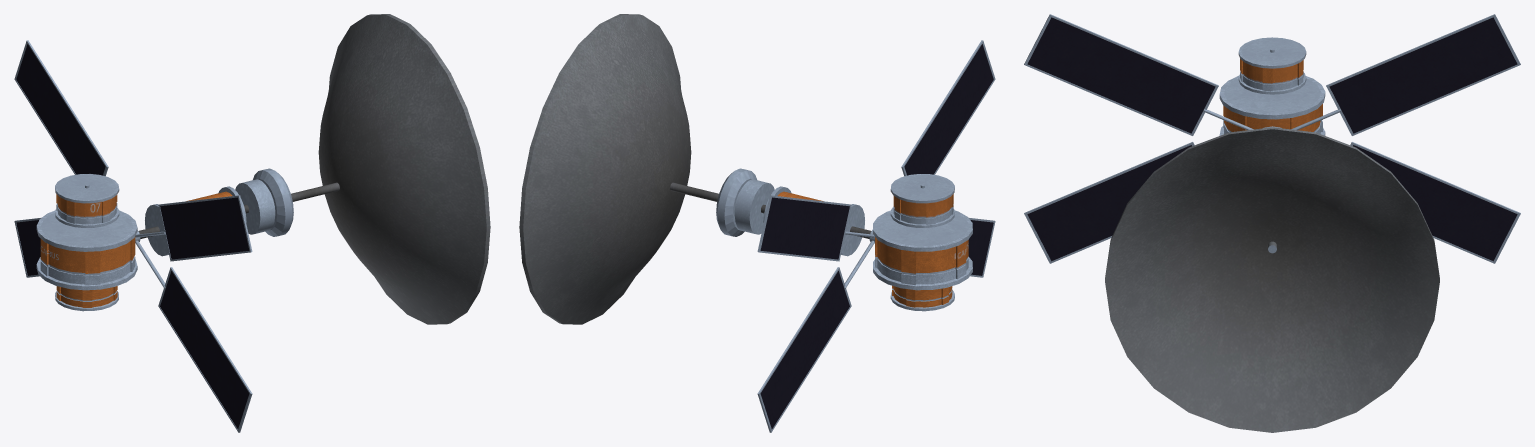
File: Satellite2.fbx
3 renders of one model, left to right at view 1: azimuth 30°, elevation 25°; view 2: azimuth 150°, elevation 25°; view 3: azimuth 270°, elevation 25°, orthographic. The views are drawn at different scales.
Visible parts, largest first — view 1: polySurface1; view 2: polySurface1; view 3: polySurface1.
Part boxes in pixels (x1=…): polySurface1: x1=14, y1=14, x2=490, y2=432; polySurface1: x1=519, y1=14, x2=995, y2=432; polySurface1: x1=1024, y1=14, x2=1520, y2=432.
Bounding box in the file's own units: 115 × 86.26 × 128.
Materials: 1 (1 with a texture image).
